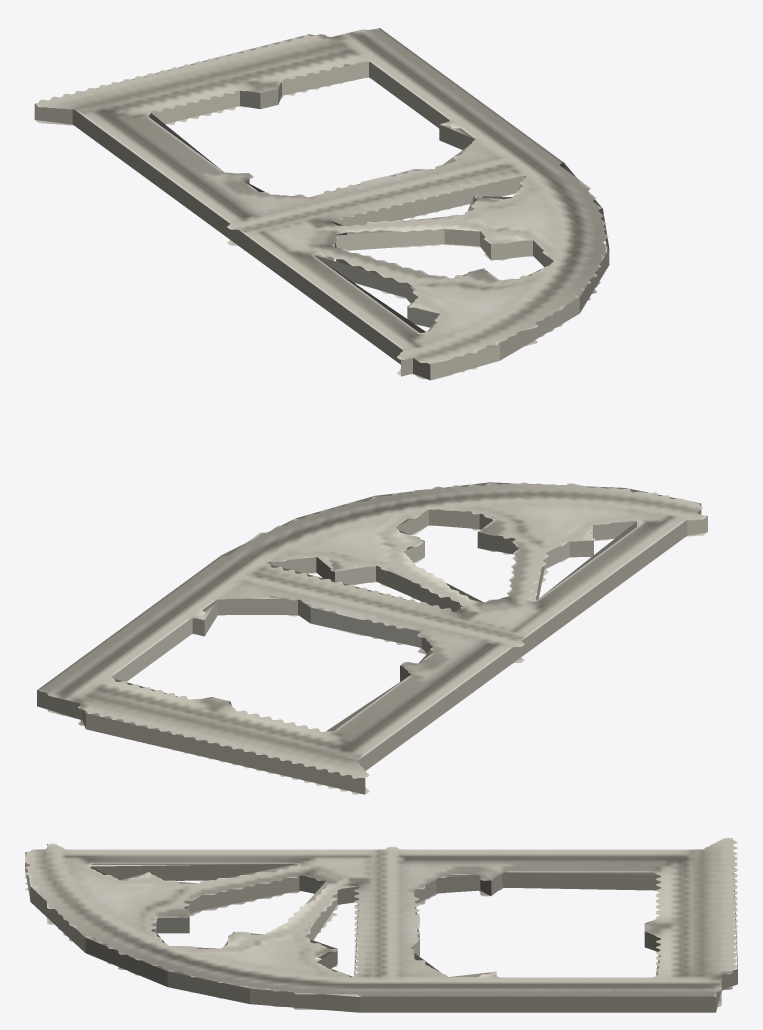
The model's file is pz_native_fixtures_windows_church_99_frame.obj.
The picture shows the model from 3 angles, top to bottom: view 1: azimuth 30°, elevation 25°; view 2: azimuth 150°, elevation 25°; view 3: azimuth 270°, elevation 25°; orthographic projection. The views are drawn at different scales.
Parts seen in each view (by area): view 1: pz_native_fixtures_windows_church_99_frame; view 2: pz_native_fixtures_windows_church_99_frame; view 3: pz_native_fixtures_windows_church_99_frame.
Part boxes in pixels (x1,y1,x2,y2): pz_native_fixtures_windows_church_99_frame: (34,28,609,380); pz_native_fixtures_windows_church_99_frame: (37,482,707,794); pz_native_fixtures_windows_church_99_frame: (25,838,737,1012).
Bounding box in the file's own units: 0.9219 × 0.04 × 1.71.
1 material, 1 textured.
